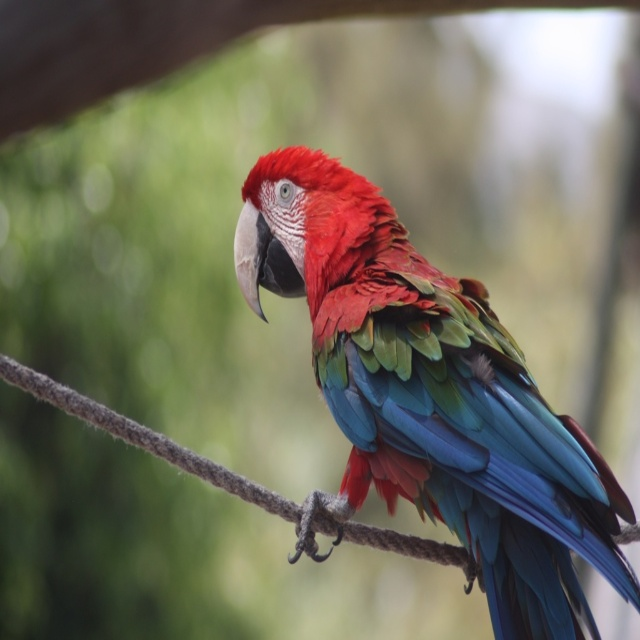Parrot: (235, 145, 640, 634)
